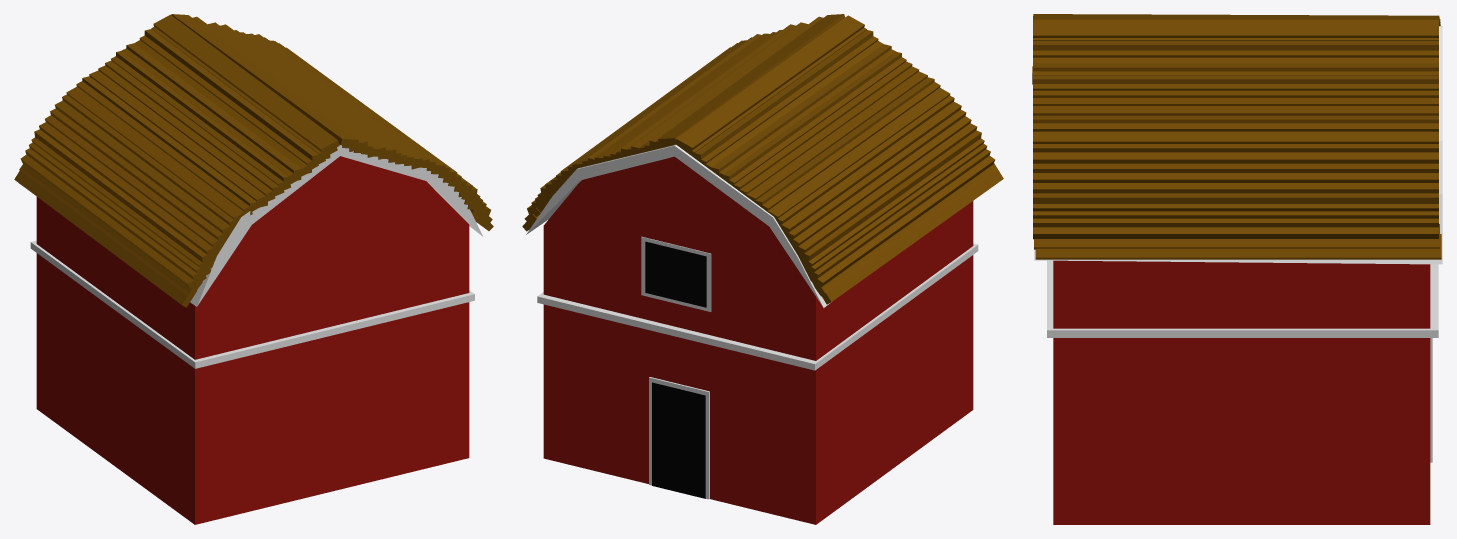
The model's file is farmhouse.fbx.
3 renders of one model, left to right at view 1: azimuth 30°, elevation 25°; view 2: azimuth 150°, elevation 25°; view 3: azimuth 270°, elevation 25°, orthographic. The views are drawn at different scales.
Visible parts, largest first — view 1: Cube, Cube.060, Cube.004, Cube.001, Cube.007, Cube.046, Cube.036, Cube.044, Cube.049, Cube.041, Cube.058, Cube.022 (+27 smaller); view 2: Cube, Cube.003, Cube.004, Cube.060, Cube.001, Cube.007, Cube.006, Cube.046, Cube.036, Cube.044, Cube.049, Cube.041 (+31 smaller); view 3: Cube, Cube.036, Cube.021, Cube.004, Cube.008, Cube.010, Cube.019, Cube.015, Cube.016, Cube.009, Cube.011, Cube.017 (+19 smaller).
Part boxes in pixels (x1,y1,x2,y2): Cube: (36,156,469,524); Cube.060: (153,14,339,154); Cube.004: (30,240,474,368); Cube.001: (19,145,483,306); Cube.007: (14,164,197,307); Cube.046: (66,86,252,222); Cube.036: (171,14,358,145); Cube.044: (55,100,237,235); Cube.049: (89,70,275,204); Cube.041: (39,122,223,256); Cube.058: (144,29,330,161); Cube.022: (20,154,206,288); Cube: (543,156,973,524); Cube.003: (652,382,705,498); Cube.004: (537,243,978,370); Cube.060: (674,15,864,152); Cube.001: (526,144,831,307); Cube.007: (821,163,1003,304); Cube.006: (645,241,706,307); Cube.046: (761,88,950,220); Cube.036: (658,14,844,144); Cube.044: (778,102,961,234); Cube.049: (742,71,927,200); Cube.041: (790,123,977,254); Cube: (1053,260,1430,524); Cube.036: (1033,19,1438,37); Cube.021: (1033,131,1438,143); Cube.004: (1047,260,1438,337); Cube.008: (1035,234,1441,259); Cube.010: (1033,227,1438,239); Cube.019: (1033,152,1438,163); Cube.015: (1033,193,1438,203); Cube.016: (1033,183,1438,193); Cube.009: (1034,224,1439,249); Cube.011: (1033,218,1438,227); Cube.017: (1033,173,1438,182).
Size of the model in its own units: 201 by 220 by 192.
